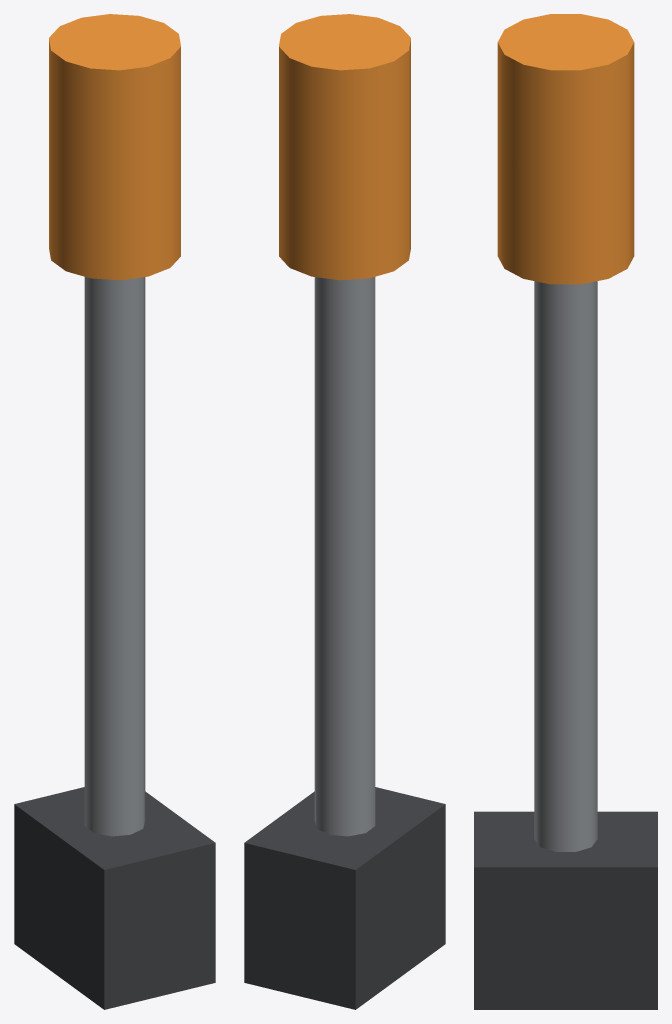
Rendered from SM_Sub2_PowerLever.fbx.
3 views of the same model, side by side, from view 1: azimuth 30°, elevation 25°; view 2: azimuth 150°, elevation 25°; view 3: azimuth 270°, elevation 25° (orthographic). The views are drawn at different scales.
Visible parts, largest first — view 1: SM_Sub2_PowerLever; view 2: SM_Sub2_PowerLever; view 3: SM_Sub2_PowerLever.
Part boxes in pixels (bbox=[...]): SM_Sub2_PowerLever: bbox=[14, 14, 215, 1009]; SM_Sub2_PowerLever: bbox=[244, 14, 445, 1009]; SM_Sub2_PowerLever: bbox=[474, 14, 657, 1009].
Size of the model in its own units: 0.0507 by 0.395 by 0.07.
